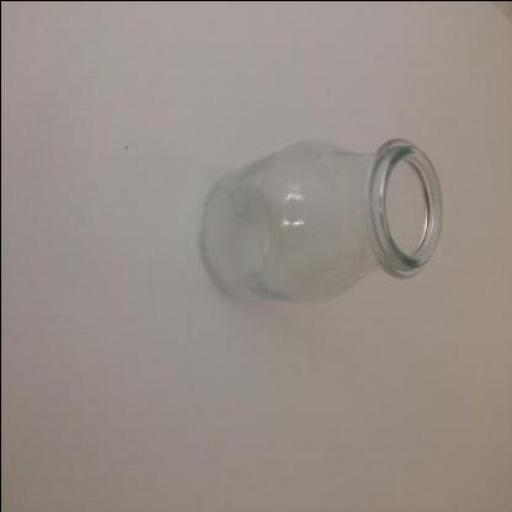glass: (198, 135, 442, 298)
